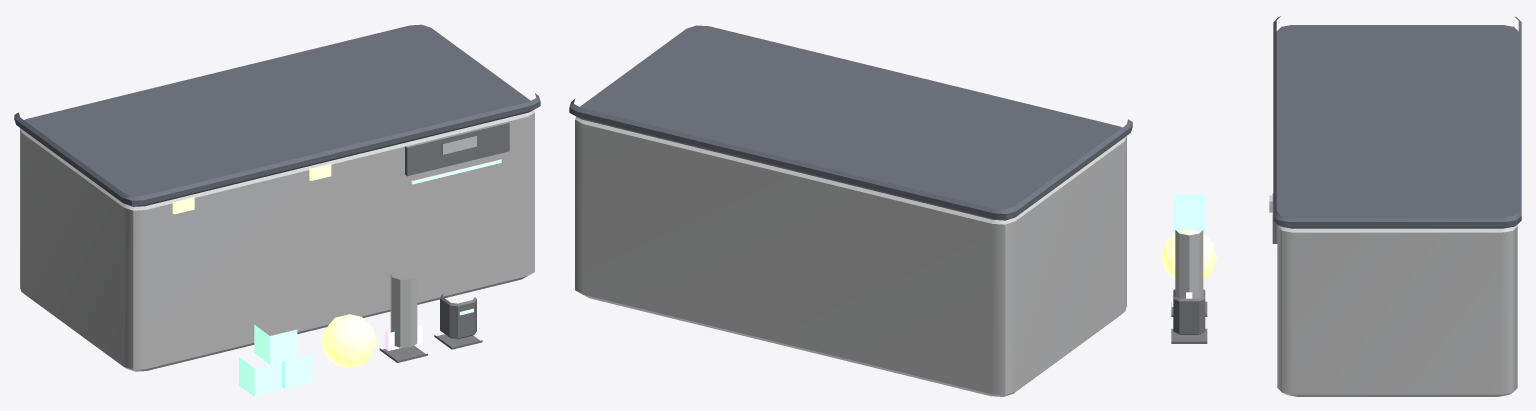
Rendered from iter_05.glb.
The picture shows the model from 3 angles, left to right: view 1: azimuth 30°, elevation 25°; view 2: azimuth 150°, elevation 25°; view 3: azimuth 270°, elevation 25°; orthographic projection. The views are drawn at different scales.
Parts seen in each view (by area): view 1: Bin_Body, Bin_Lid, Toy_Blocks, Intake_Flap, Toy_Ball, Toy_Rocket, Toy_Sprocket, Mag_Pads, Lid_Latches; view 2: Bin_Body, Bin_Lid; view 3: Bin_Lid, Bin_Body, Toy_Rocket, Toy_Sprocket, Toy_Blocks, Toy_Ball, Mag_Pads.
Part boxes in pixels (x1,y1,x2,y2): Bin_Body: (20,110,534,371); Bin_Lid: (14,24,540,206); Toy_Blocks: (239,325,312,396); Intake_Flap: (405,123,509,176); Toy_Ball: (321,314,376,368); Toy_Rocket: (390,274,417,347); Toy_Sprocket: (440,294,476,339); Mag_Pads: (379,334,482,362); Lid_Latches: (172,164,331,214); Bin_Body: (575,116,1126,396); Bin_Lid: (569,25,1132,220); Bin_Lid: (1273,16,1521,228); Bin_Body: (1277,225,1517,396); Toy_Rocket: (1175,230,1203,298); Toy_Sprocket: (1173,289,1205,334); Toy_Blocks: (1173,194,1205,234); Toy_Ball: (1161,229,1217,280); Mag_Pads: (1171,301,1207,343).
Bounding box in the file's own units: 1.22 × 0.5 × 0.9.
